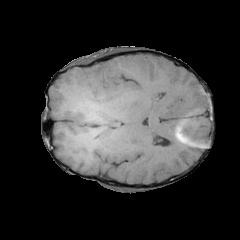glioma: (73, 66, 129, 155)
